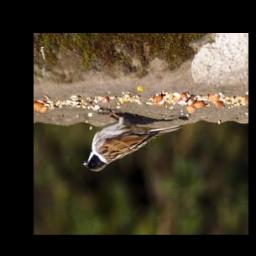Sparrow: (81, 109, 181, 173)
